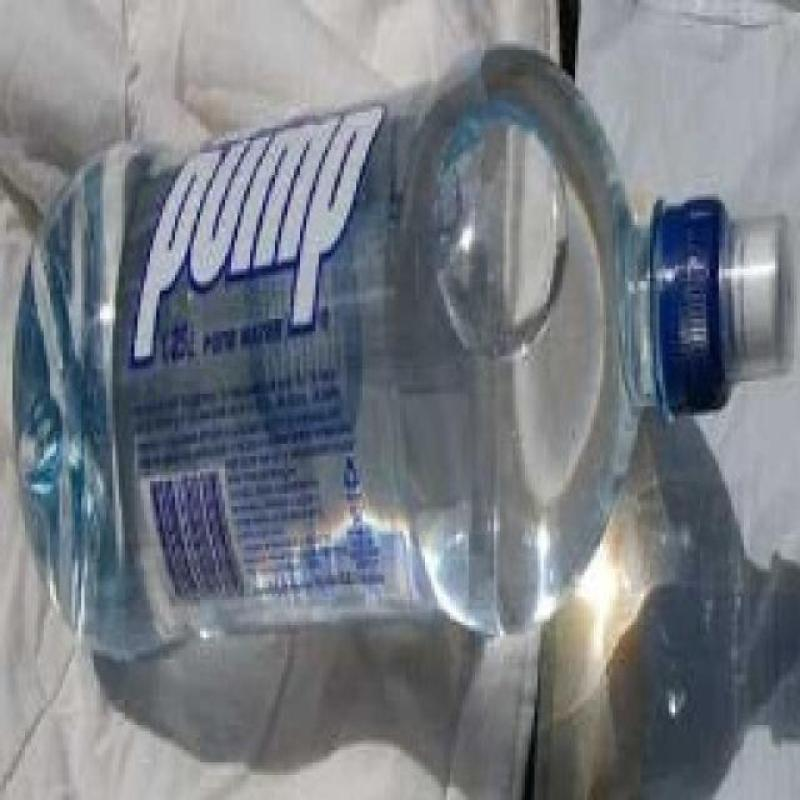botella: (8, 43, 794, 672)
